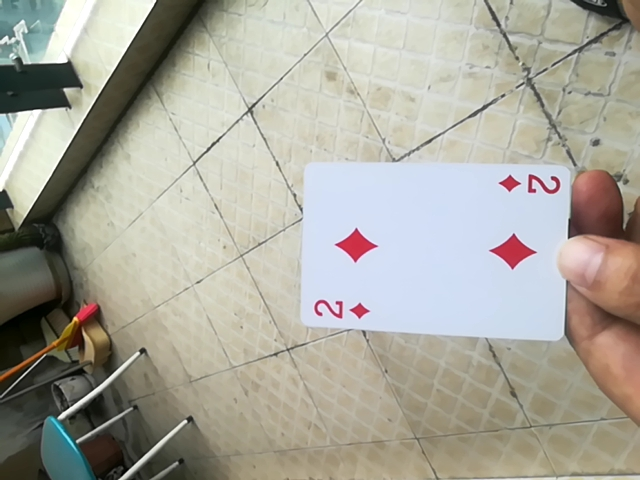fk 2: (297, 161, 578, 343)
